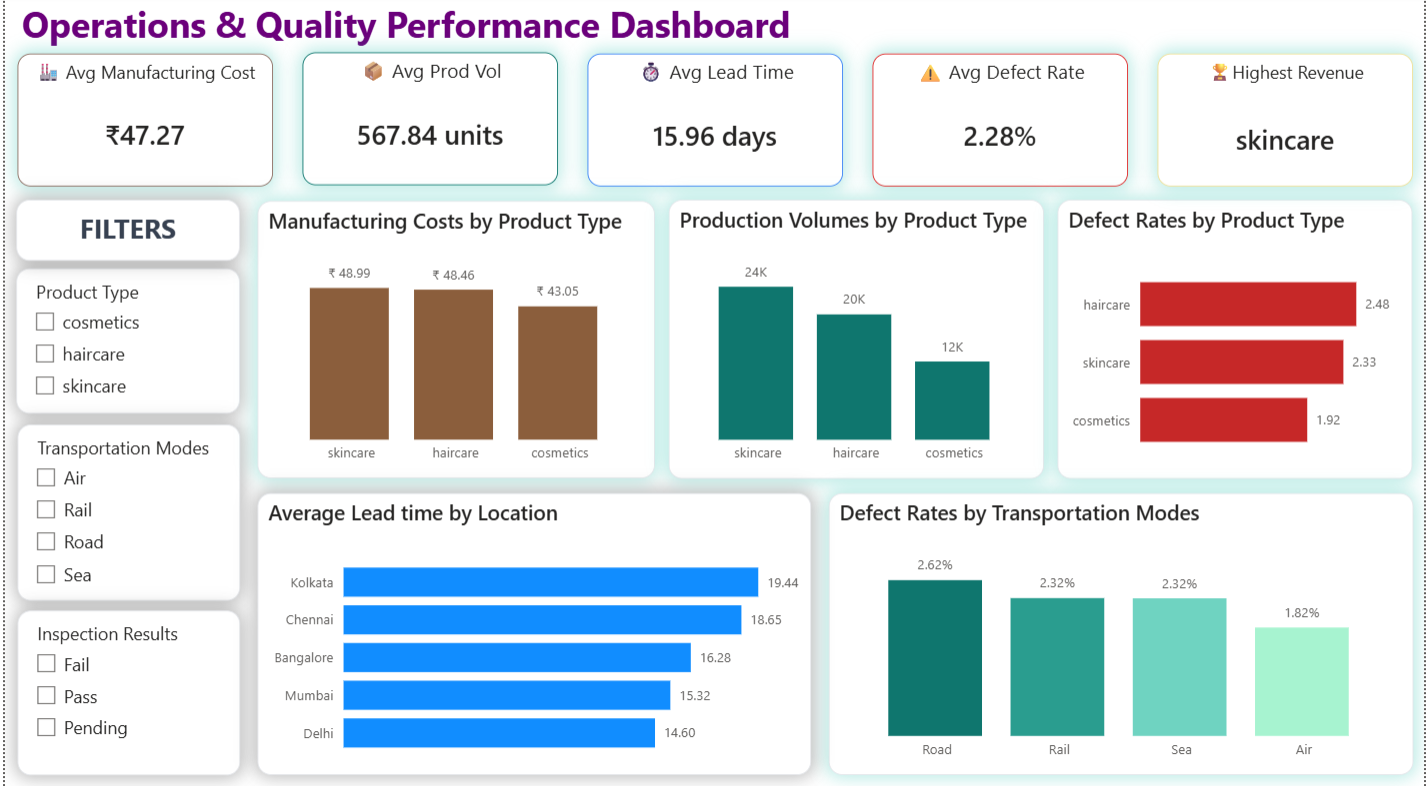

The page's visual inventory and layout, read from the dashboard file:
{"tool":"powerbi","page":{"name":"Operations & Quality Dashboard","canvas":[1280,720],"ordinal":1},"visuals":[{"type":"textbox","box":[9.8,0,791.2,66],"z":0},{"type":"cardVisual","title":"🏭 Avg Manufacturing Cost","fields":{"Data":["Supply_chain__data.Avg Mfg Cost"]},"box":[11,52.6,230,120],"z":1000},{"type":"cardVisual","title":"📦 Avg Prod Vol","fields":{"Data":["Supplier_Performance.Avg Production Volume"]},"box":[268.1,51.4,230,120],"z":2000},{"type":"cardVisual","title":"⏱️ Avg Lead Time","fields":{"Data":["Supplier_Performance.Avg Lead Time"]},"box":[525.2,52.6,230,120],"z":3000},{"type":"cardVisual","title":"⚠️ Avg Defect Rate","fields":{"Data":["Supply_chain__data.Avg Defect Rate"]},"box":[782.3,52.6,230,120],"z":4000},{"type":"slicer","fields":{"Values":["Supply_chain__data.Product type"]},"box":[9.8,247,201.8,130.8],"z":5000},{"type":"slicer","fields":{"Values":["Supply_chain__data.Transportation modes"]},"box":[11,387.6,200.5,159],"z":6000},{"type":"slicer","fields":{"Values":["Supply_chain__data.Inspection results"]},"box":[11,555.2,200.5,149.2],"z":7000},{"type":"clusteredColumnChart","title":" Manufacturing Costs by Product Type","fields":{"Category":["Supply_chain__data.Product type"],"Y":["Avg(Supply_chain__data.Manufacturing costs)"]},"box":[227.4,185.9,358.3,250.7],"z":8000},{"type":"clusteredColumnChart","title":"Production Volumes by Product Type","fields":{"Category":["Supply_chain__data.Product type"],"Y":["Sum(Supply_chain__data.Production volumes)"]},"box":[598,184.6,338.7,251.9],"z":9000},{"type":"clusteredBarChart","title":"Defect Rates by Product Type","fields":{"Category":["Supply_chain__data.Product type"],"Y":["Supply_chain__data.Avg Defect Rate"]},"box":[948.9,184.6,320.4,251.9],"z":10000},{"type":"columnChart","title":" Defect Rates by Transportation Modes","fields":{"Category":["Supply_chain__data.Transportation modes"],"Y":["Supply_chain__data.Avg Defect Rate"]},"box":[742.3,450,527,254.3],"z":11000},{"type":"cardVisual","title":"🏆Highest Revenue","fields":{"Data":["Supplier_Performance.Best Product Type"]},"box":[1039.4,52.6,230,120],"z":12000},{"type":"clusteredBarChart","title":"Average Lead time by Location","fields":{"Category":["Supply_chain__data.Location"],"Y":["Avg(Supply_chain__data.Lead time)"]},"box":[227.4,450,498.9,254.3],"z":13000},{"type":"textbox","box":[9.8,184.6,201.8,55],"z":14000}]}

Visuals, with their boxes in screenshot pixels (x1, y1, x2, y2), scaled from the page's 1280x720 canvas onto the 1426x786 screenshot:
textbox: 11:0:892:72
"🏭 Avg Manufacturing Cost" cardVisual: 12:57:268:188
"📦 Avg Prod Vol" cardVisual: 299:56:555:187
"⏱️ Avg Lead Time" cardVisual: 585:57:841:188
"⚠️ Avg Defect Rate" cardVisual: 872:57:1128:188
slicer - Supply_chain__data.Product type: 11:270:236:412
slicer - Supply_chain__data.Transportation modes: 12:423:236:597
slicer - Supply_chain__data.Inspection results: 12:606:236:769
" Manufacturing Costs by Product Type" clusteredColumnChart: 253:203:653:477
"Production Volumes by Product Type" clusteredColumnChart: 666:202:1044:477
"Defect Rates by Product Type" clusteredBarChart: 1057:202:1414:477
" Defect Rates by Transportation Modes" columnChart: 827:491:1414:769
"🏆Highest Revenue" cardVisual: 1158:57:1414:188
"Average Lead time by Location" clusteredBarChart: 253:491:809:769
textbox: 11:202:236:262
